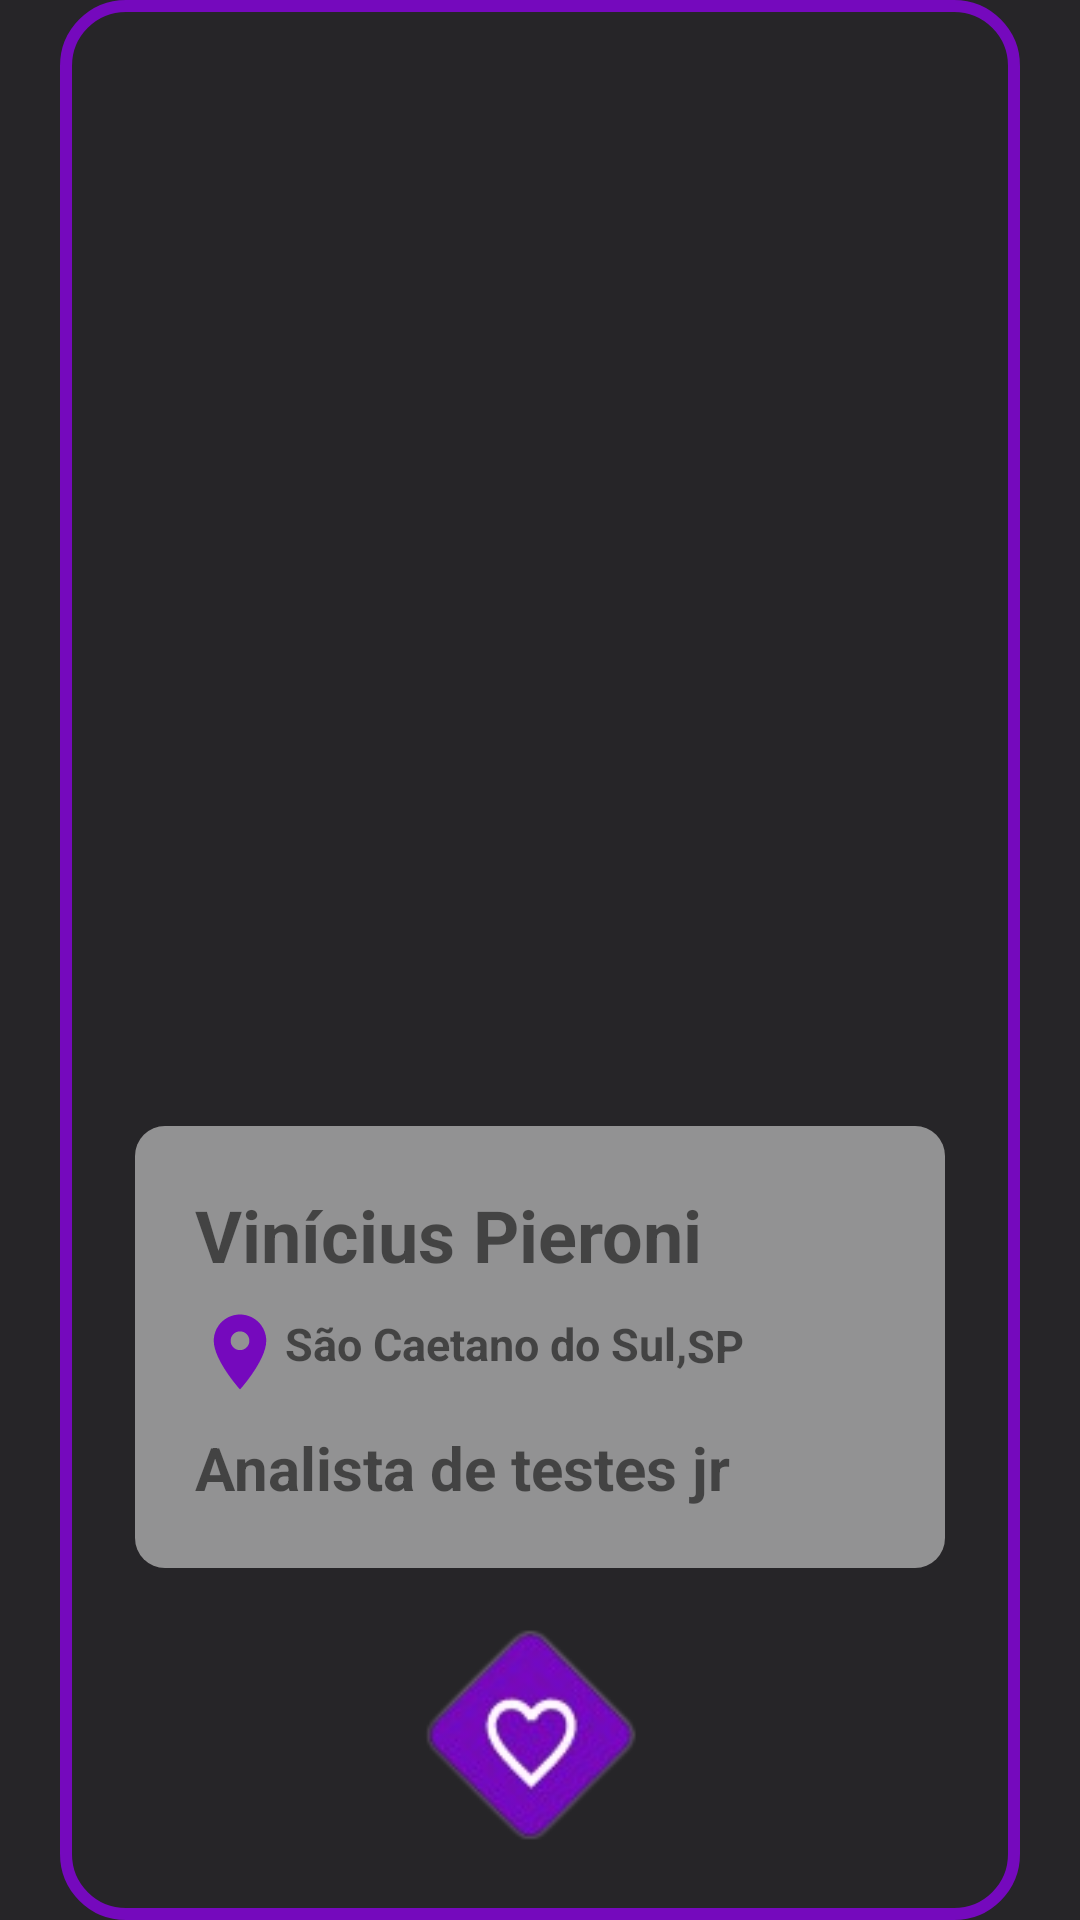

Locate icon controls on the screen. Image size 1080*1920, boxes as (x1, y1, x2, y2).
heart: (427, 1631, 635, 1839)
room: (213, 1314, 267, 1389)
